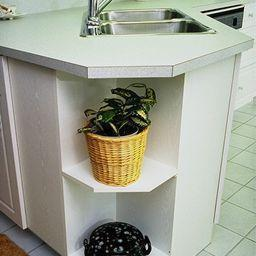Lavaplatos: (81, 1, 220, 42)
